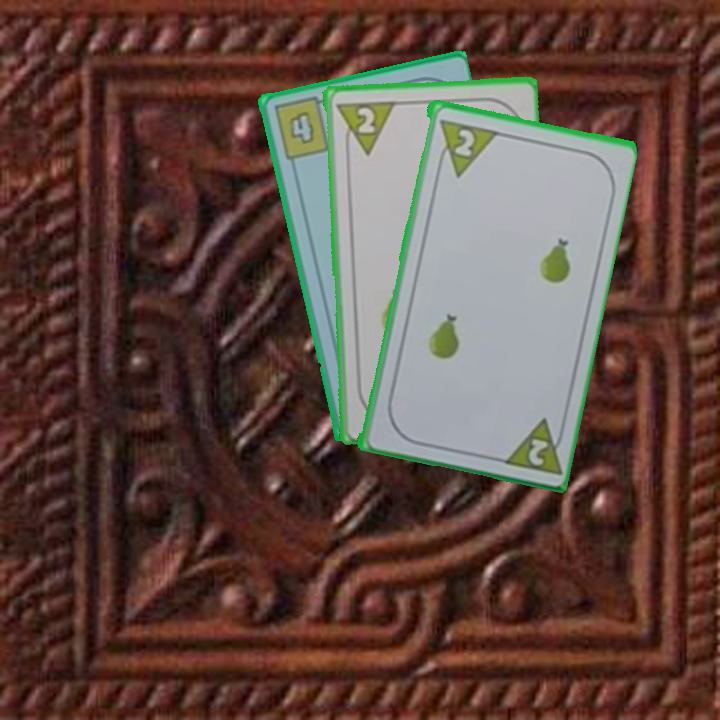2p: (496, 413, 568, 478), (331, 97, 397, 158), (450, 125, 478, 159)
4b: (270, 93, 332, 163)
